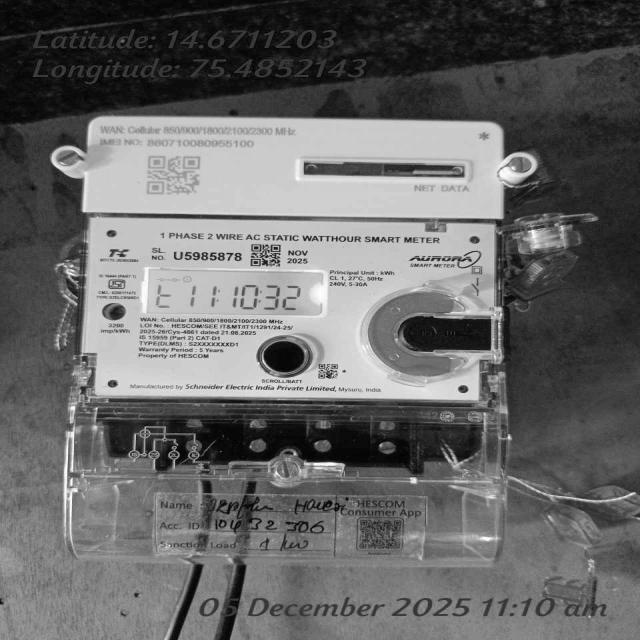meter: (84, 115, 507, 408)
